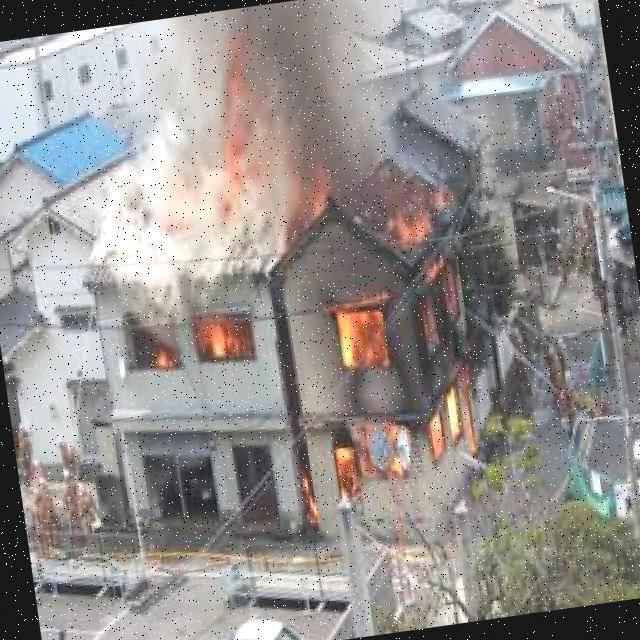Fire: (287, 171, 501, 503), (140, 315, 255, 378), (209, 97, 258, 202)
